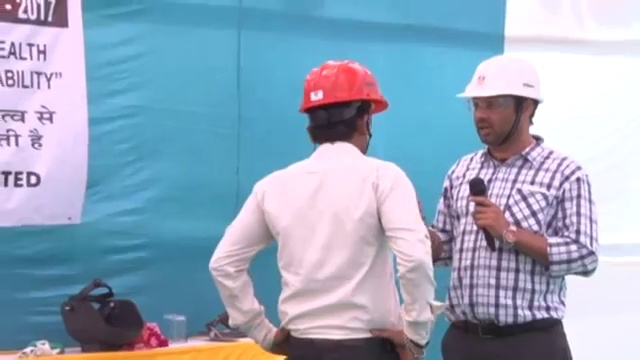helmet: (298, 58, 390, 115), (455, 53, 545, 107)
helmet_on: (454, 52, 547, 158), (297, 58, 390, 156)
person: (204, 58, 435, 360), (430, 53, 601, 360)
